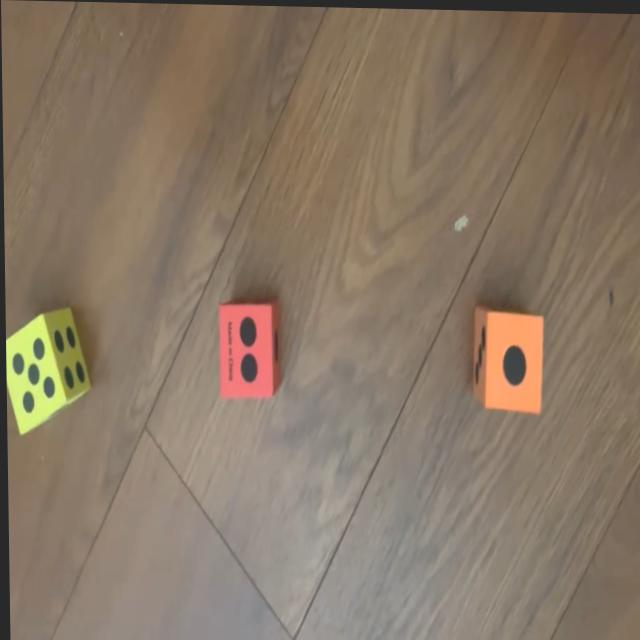red_block: (216, 300, 281, 399)
